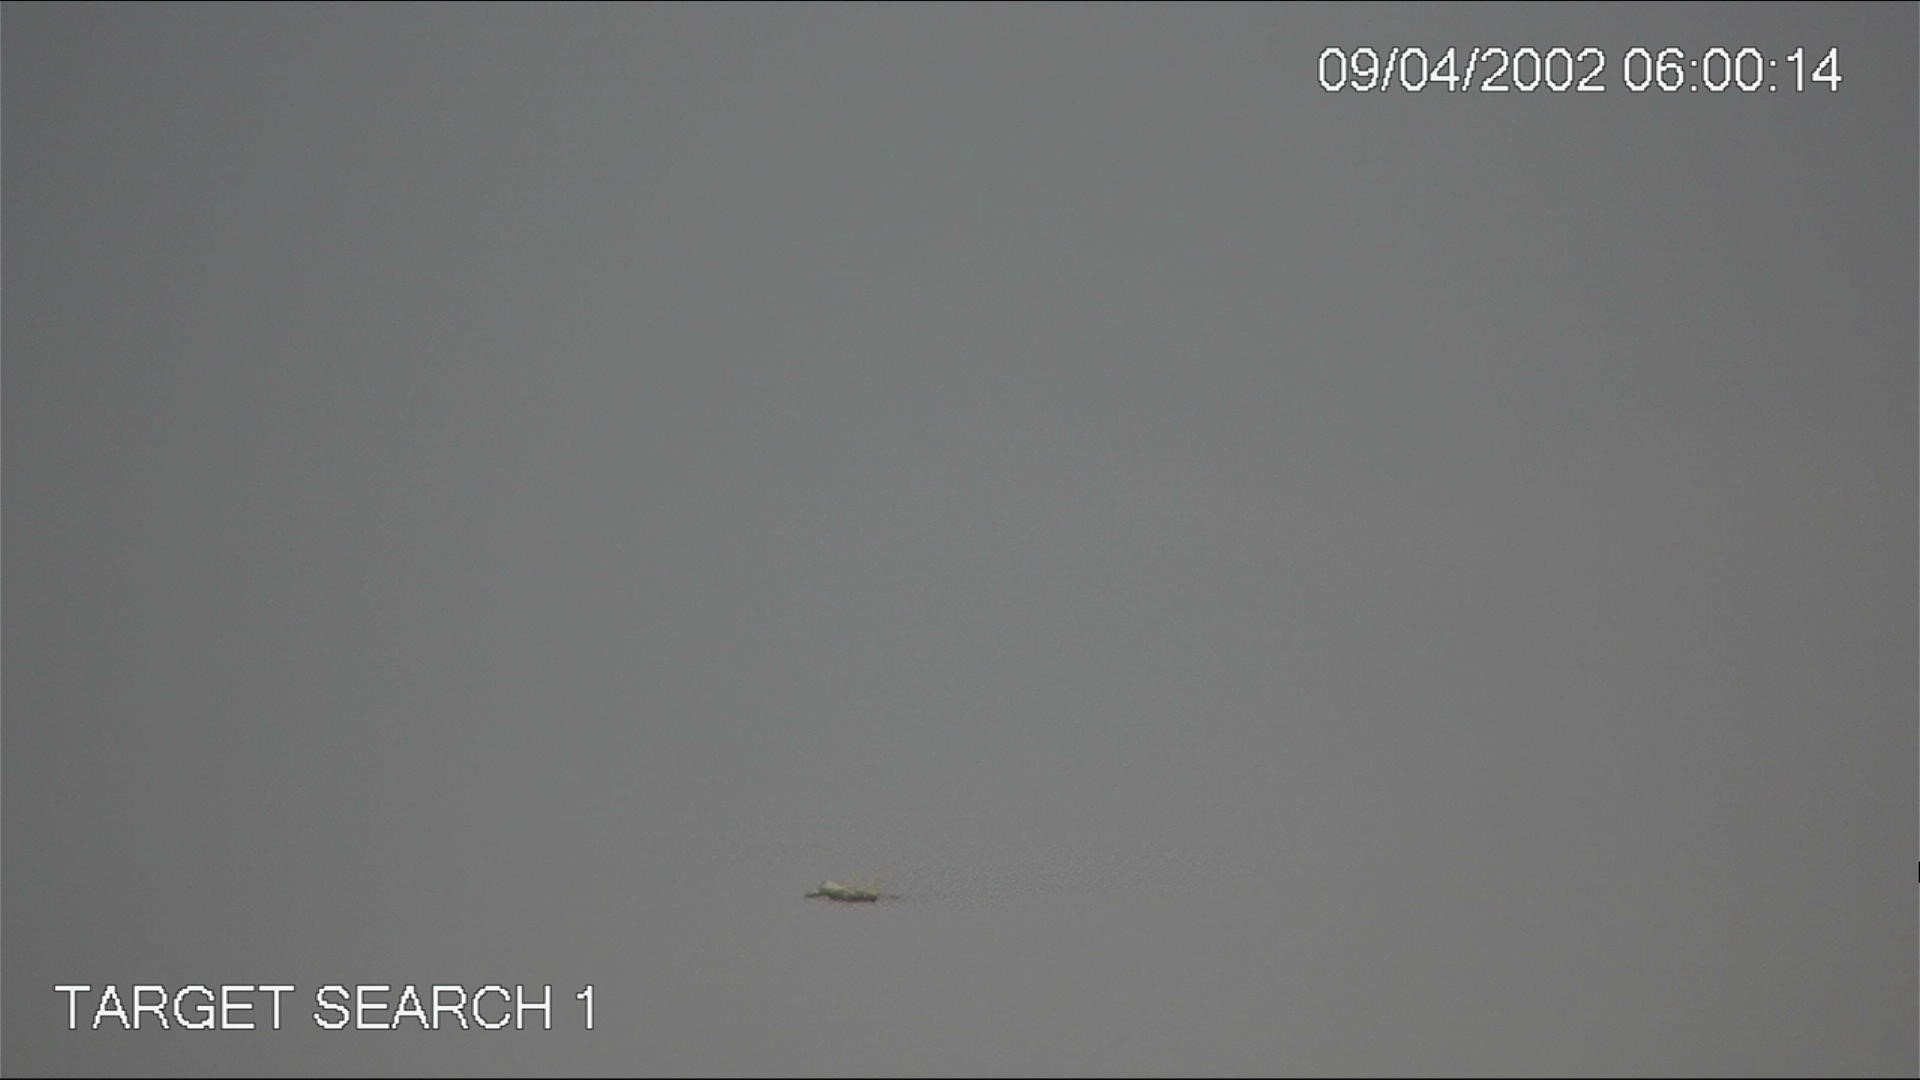SU_30: (800, 872, 893, 903)
